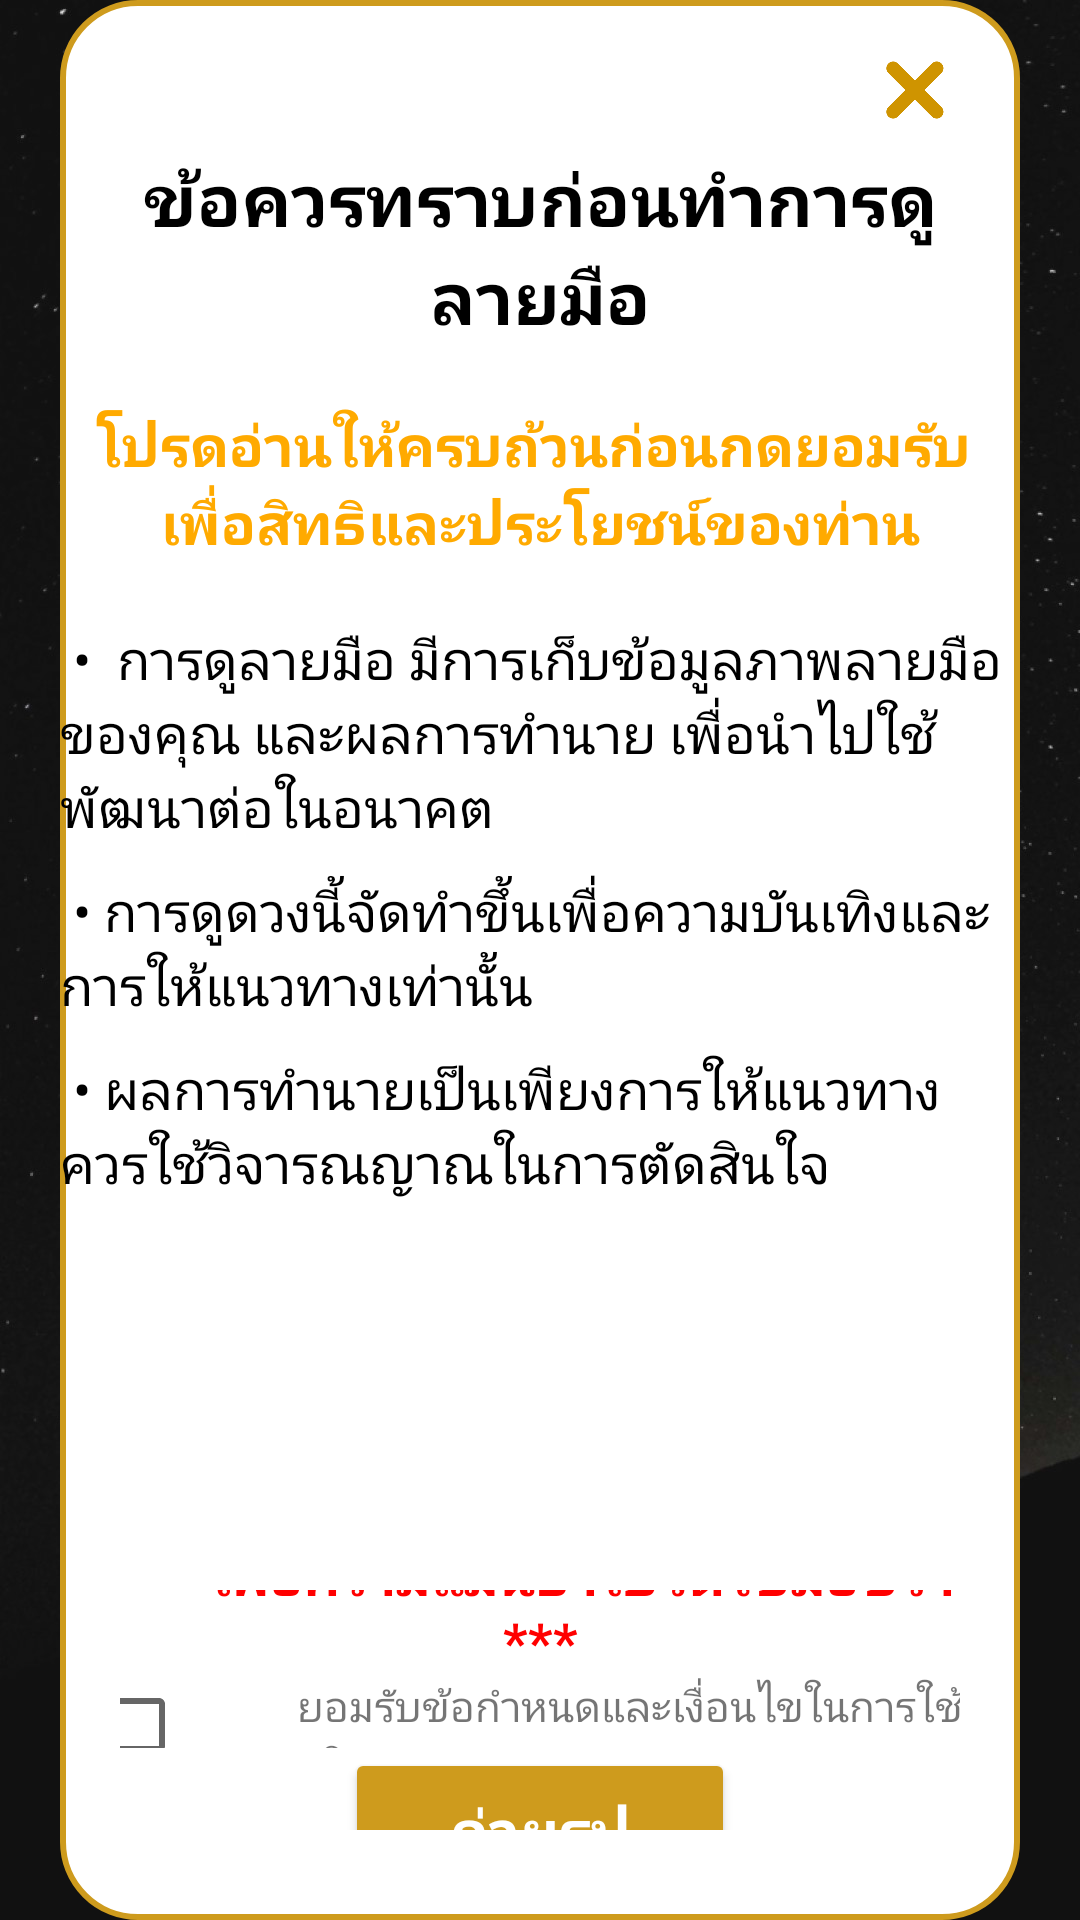

Icon click points for this 1080*1920 phone screenshot, format [x,y]:
close: [915,90]
